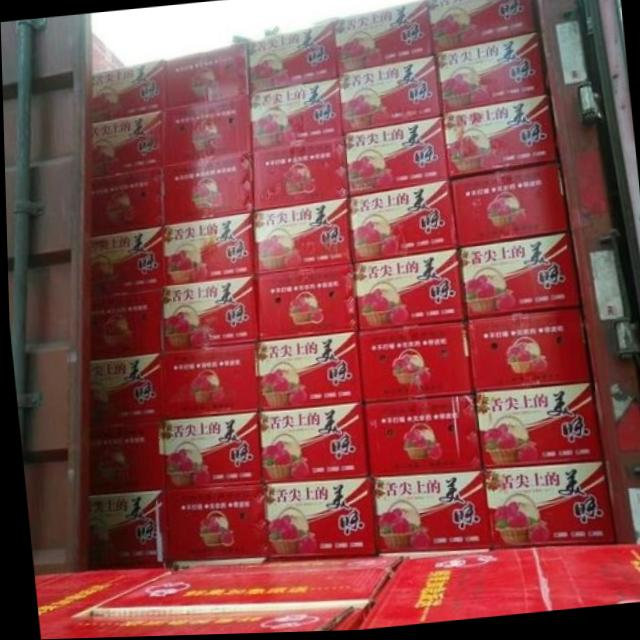box: (351, 547, 640, 632), (75, 559, 403, 616), (36, 604, 373, 639), (479, 463, 609, 551), (463, 308, 589, 395), (457, 234, 577, 323), (472, 387, 599, 471), (365, 472, 489, 558), (449, 163, 566, 249), (440, 95, 554, 182), (362, 396, 479, 479), (433, 33, 544, 117), (351, 249, 462, 333), (348, 179, 457, 264), (354, 322, 468, 403), (259, 479, 373, 560), (32, 568, 169, 634), (256, 403, 366, 484), (341, 117, 449, 199), (160, 484, 267, 566), (254, 334, 362, 414), (335, 56, 440, 136), (255, 264, 356, 342), (251, 199, 351, 276), (159, 343, 256, 421), (334, 2, 433, 78), (158, 276, 258, 351), (250, 136, 348, 212), (160, 414, 259, 489), (157, 212, 253, 287), (248, 78, 342, 154), (245, 23, 336, 96), (160, 96, 250, 169), (160, 155, 251, 225), (427, 0, 537, 56), (85, 491, 160, 569), (162, 44, 248, 110), (84, 351, 161, 423), (85, 421, 161, 492), (87, 111, 163, 177), (87, 169, 163, 235), (87, 226, 163, 292), (87, 289, 158, 358), (90, 62, 165, 123)
